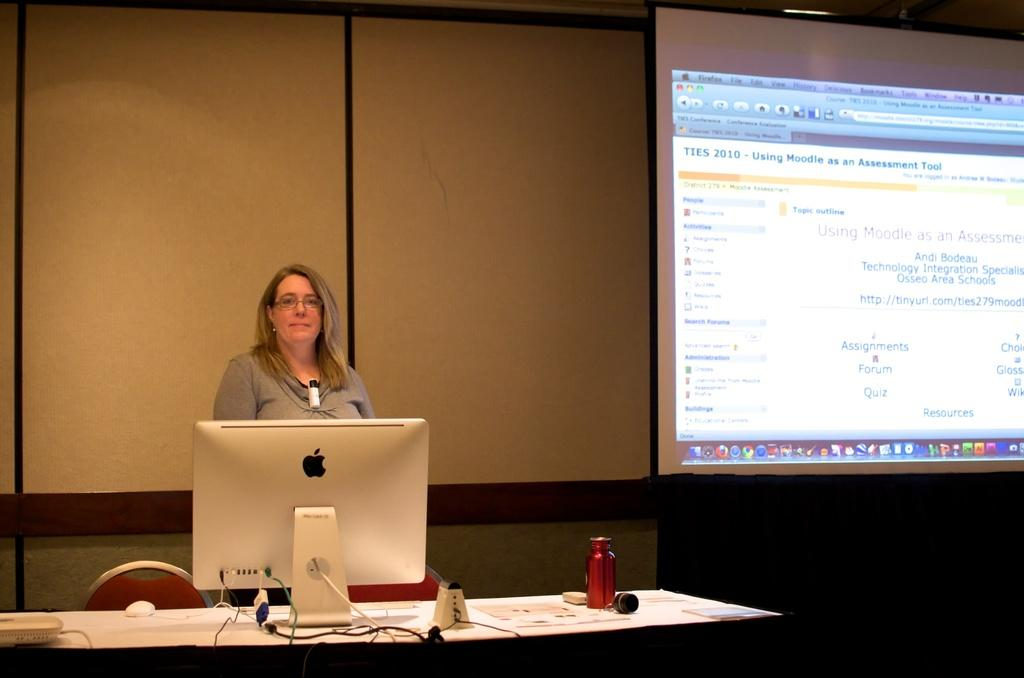Computer-monitor: (189, 419, 435, 626)
